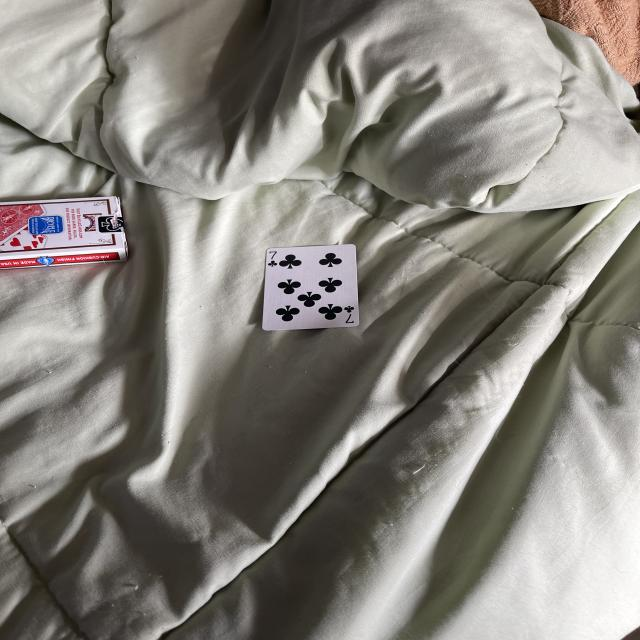7 of clubs: (234, 240, 366, 342)
